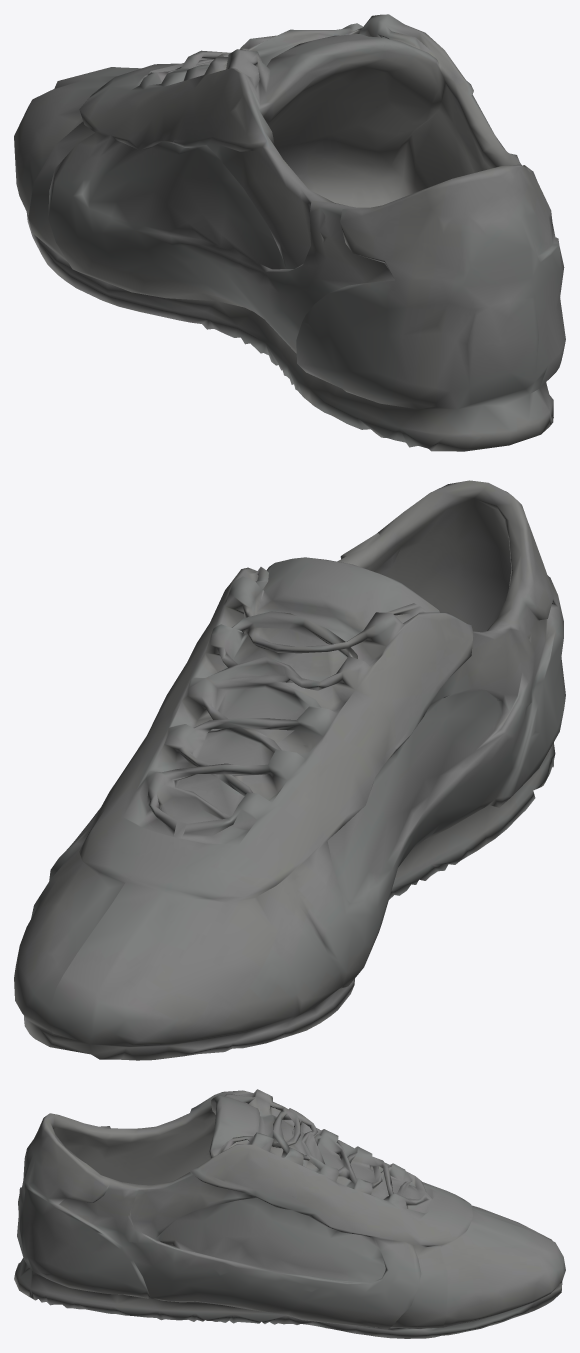
Rendered from gully-number-003-roja-pink-for-women.glb.
The picture shows the model from 3 angles, top to bottom: view 1: azimuth 30°, elevation 25°; view 2: azimuth 150°, elevation 25°; view 3: azimuth 270°, elevation 25°; orthographic projection. The views are drawn at different scales.
Visible parts, largest first — view 1: tripo_node_e35357b1-d2f7-4891-b9c3-24b9115cf630; view 2: tripo_node_e35357b1-d2f7-4891-b9c3-24b9115cf630; view 3: tripo_node_e35357b1-d2f7-4891-b9c3-24b9115cf630.
Part boxes in pixels (left/top/right/bottom): tripo_node_e35357b1-d2f7-4891-b9c3-24b9115cf630: left=14, top=14, right=565, bottom=451; tripo_node_e35357b1-d2f7-4891-b9c3-24b9115cf630: left=14, top=480, right=565, bottom=1060; tripo_node_e35357b1-d2f7-4891-b9c3-24b9115cf630: left=14, top=1089, right=565, bottom=1338.
Bounding box in the file's own units: 0.3797 × 0.3927 × 1.
Materials: 1 (1 with a texture image).
